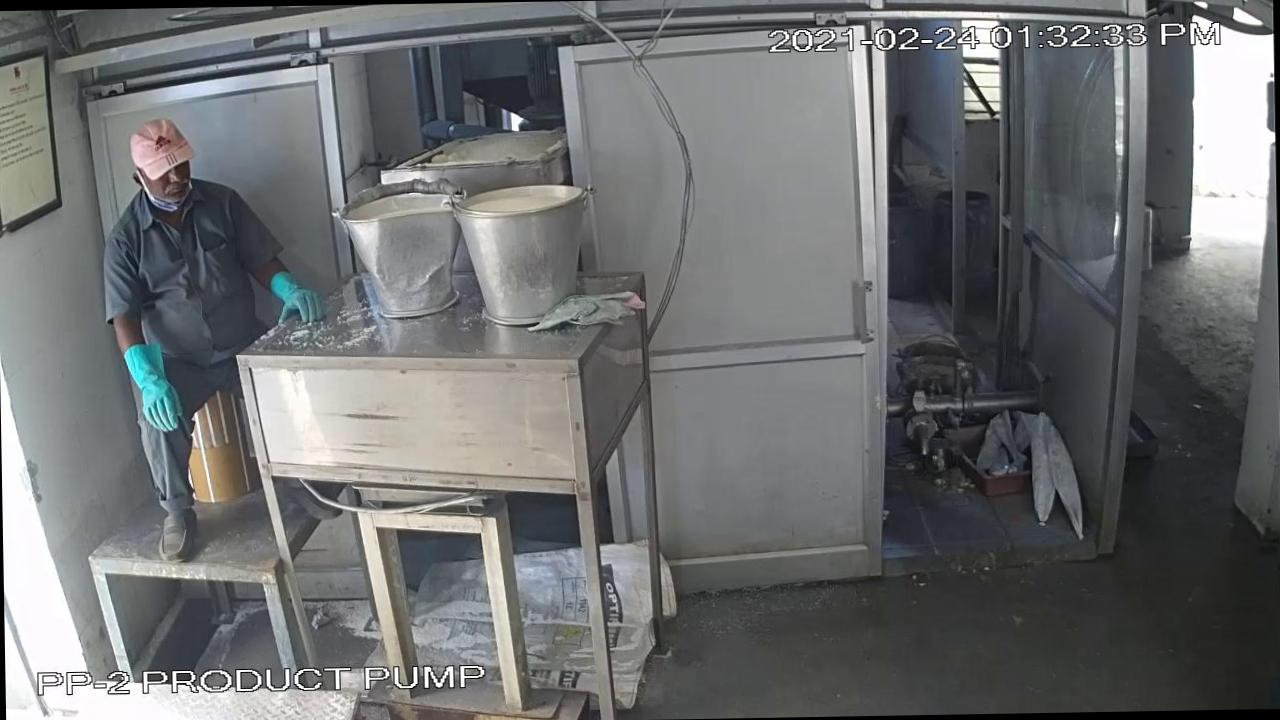Helmet: (110, 102, 221, 184)
